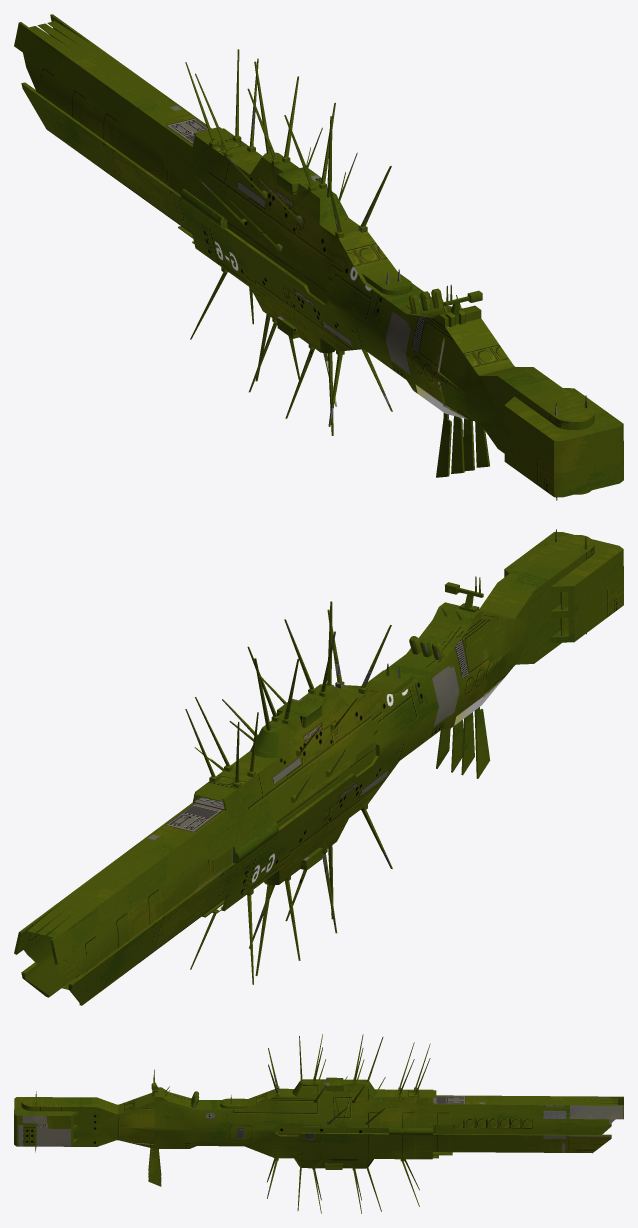
Rendered from FPA_CommandShip_Shiva.obj.
The picture shows the model from 3 angles, top to bottom: view 1: azimuth 30°, elevation 25°; view 2: azimuth 150°, elevation 25°; view 3: azimuth 270°, elevation 25°; orthographic projection. The views are drawn at different scales.
Parts seen in each view (by area): view 1: FPA_CommandShip_Shiva; view 2: FPA_CommandShip_Shiva; view 3: FPA_CommandShip_Shiva.
Boxes of the visible parts, <box> form: FPA_CommandShip_Shiva: <box>14,14,623,500</box>; FPA_CommandShip_Shiva: <box>14,529,623,1005</box>; FPA_CommandShip_Shiva: <box>14,1034,623,1213</box>.
Size of the model in its own units: 113 by 297 by 938.
